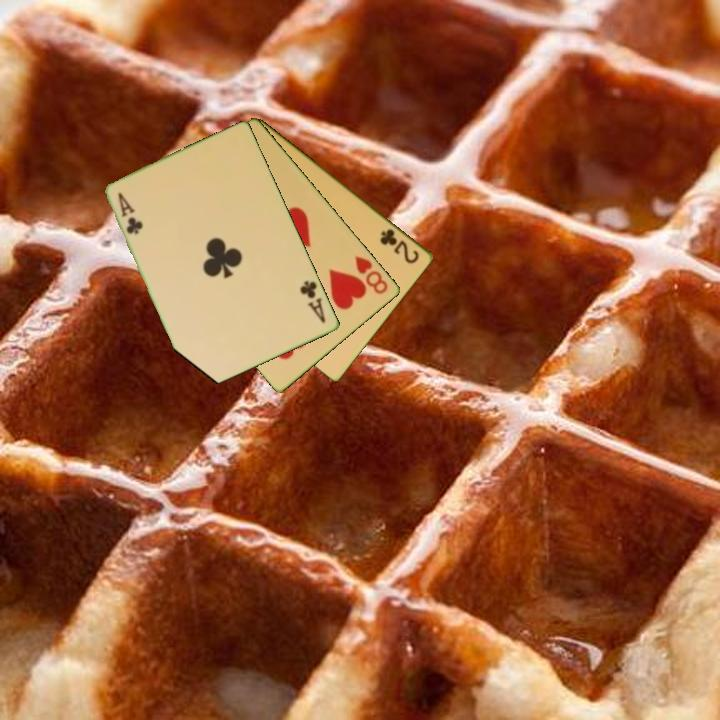2c: (377, 225, 423, 266)
8h: (352, 252, 391, 297)
Ac: (297, 277, 329, 326), (114, 189, 146, 237)
